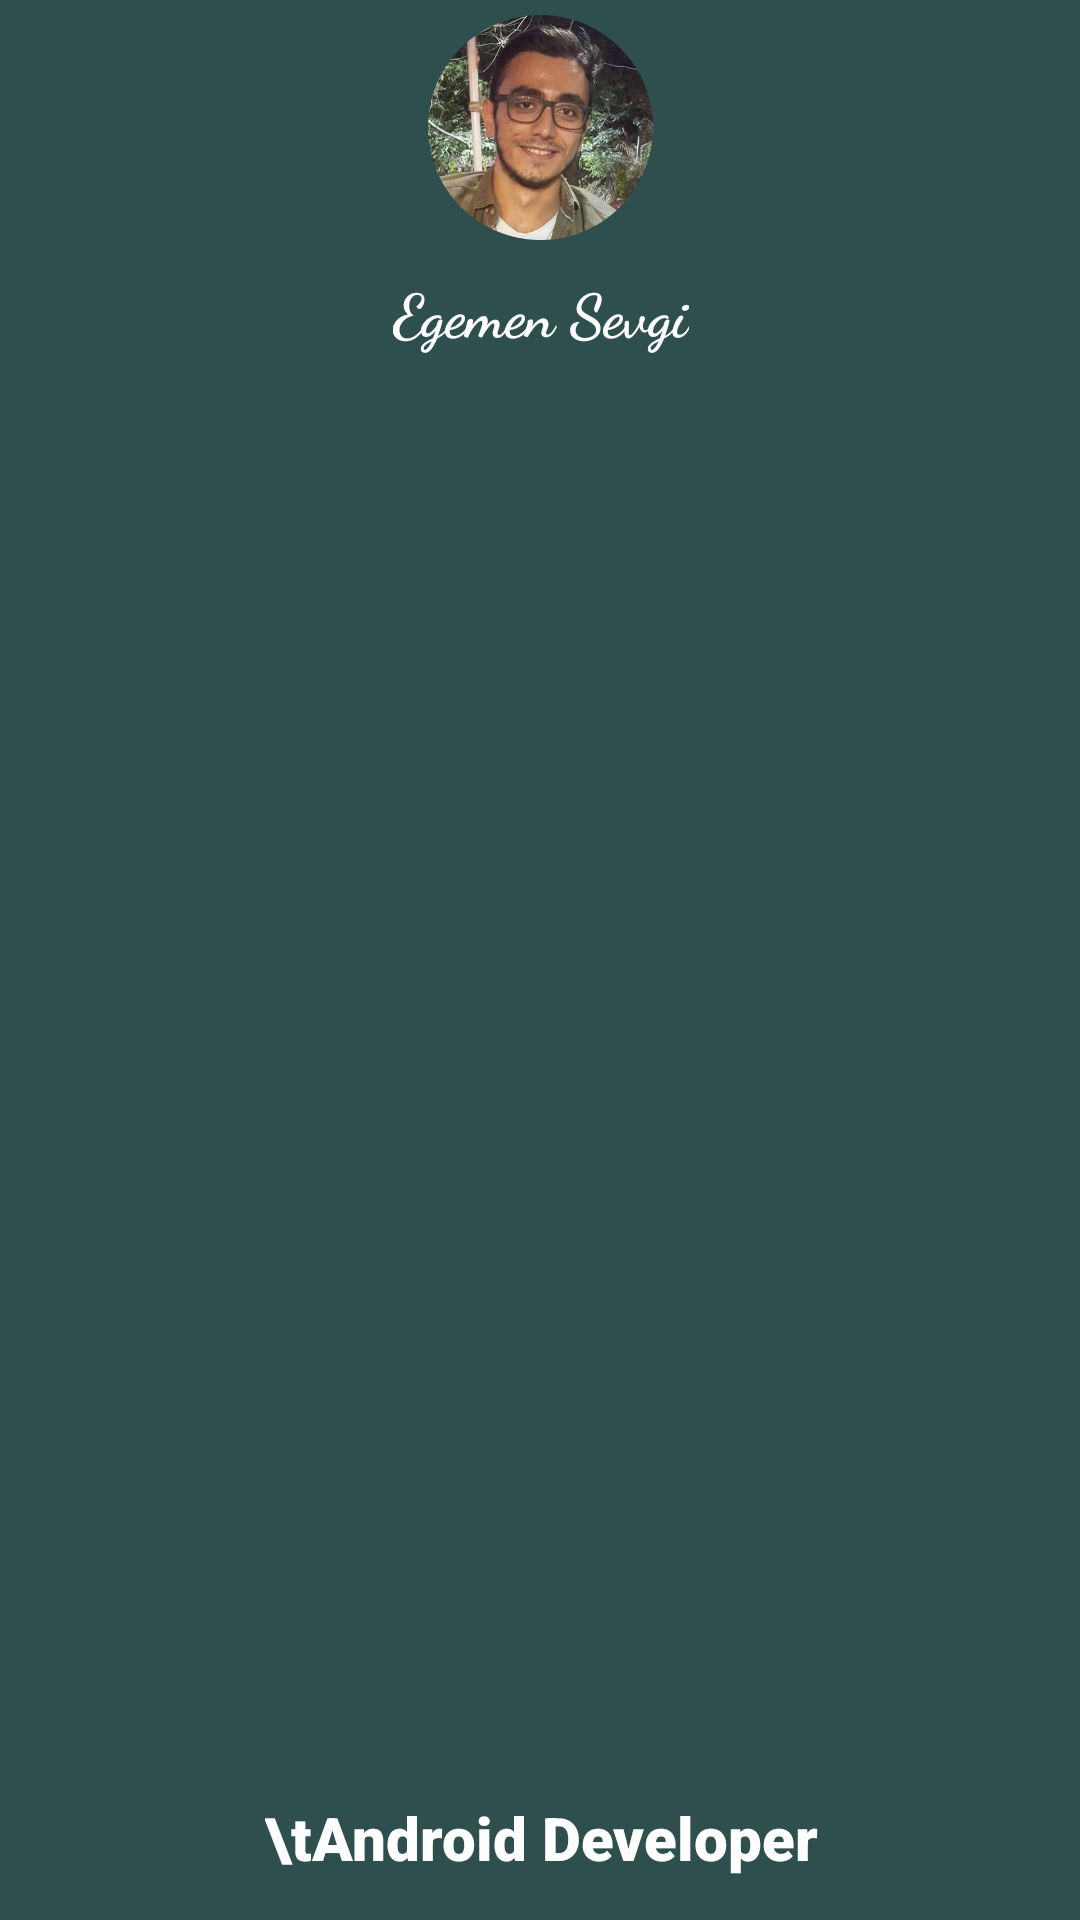

Point at icon controls on the screen. Image size 1080 x 1920, points as (x,y).
resim: (540,127)
